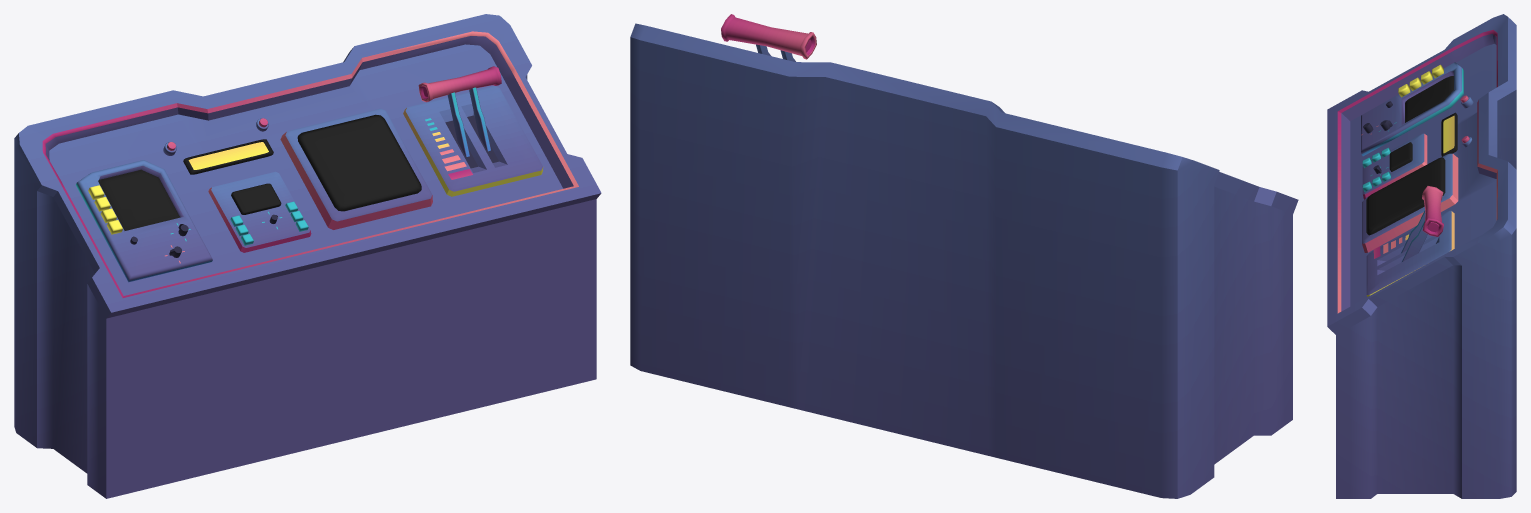
File: Command_Board.fbx
3 views of the same model, side by side, from view 1: azimuth 30°, elevation 25°; view 2: azimuth 150°, elevation 25°; view 3: azimuth 270°, elevation 25° (orthographic). The views are drawn at different scales.
Visible parts, largest first — view 1: pCube1, polySurface4, polySurface1, pCube26; view 2: pCube1, polySurface1; view 3: pCube1, polySurface4, polySurface1, pCube26.
Boxes of the visible parts, left/top/right/bottom form: pCube1: left=14, top=14, right=601, bottom=498; polySurface4: left=75, top=86, right=543, bottom=282; polySurface1: left=418, top=66, right=501, bottom=156; pCube26: left=188, top=142, right=268, bottom=169; pCube1: left=630, top=23, right=1298, bottom=498; polySurface1: left=721, top=14, right=816, bottom=61; pCube1: left=1327, top=14, right=1516, bottom=498; polySurface4: left=1361, top=62, right=1473, bottom=296; polySurface1: left=1401, top=186, right=1443, bottom=261; pCube26: left=1443, top=115, right=1454, bottom=153.
Bounding box in the file's own units: 371 × 217 × 137.
Materials: 2 (1 with a texture image).
